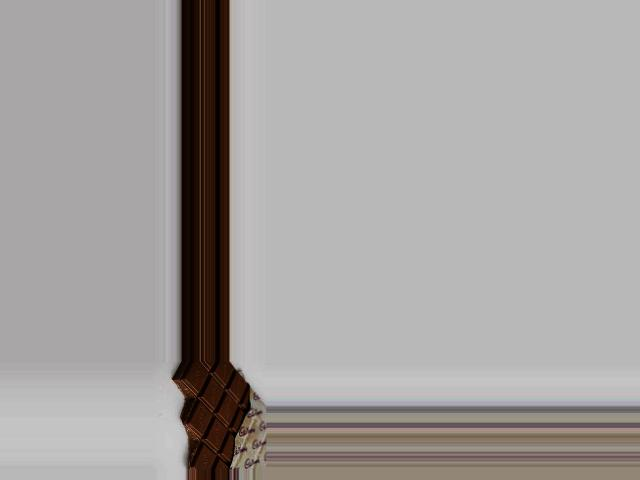chocolate: (180, 362, 265, 469)
